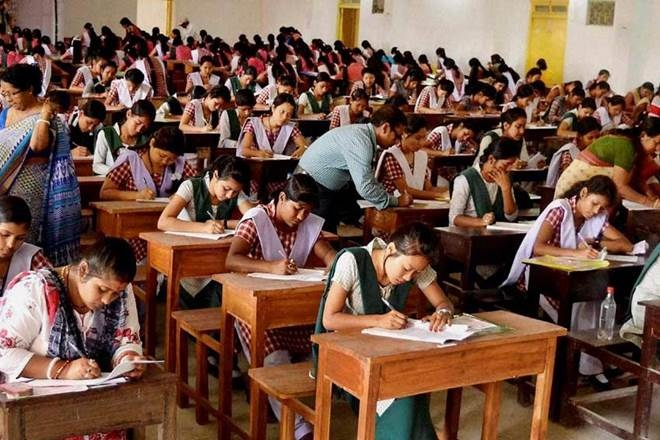invigilator: (2, 62, 77, 257), (291, 110, 402, 223), (551, 119, 660, 215)
student: (1, 227, 144, 383), (340, 212, 477, 358), (167, 135, 278, 234), (544, 166, 636, 278), (237, 180, 337, 283), (448, 139, 528, 239), (102, 129, 197, 207), (89, 99, 167, 182), (394, 111, 448, 209), (237, 97, 308, 164), (178, 78, 238, 135), (93, 64, 153, 108), (488, 109, 529, 151), (333, 88, 372, 132), (303, 72, 336, 122)
